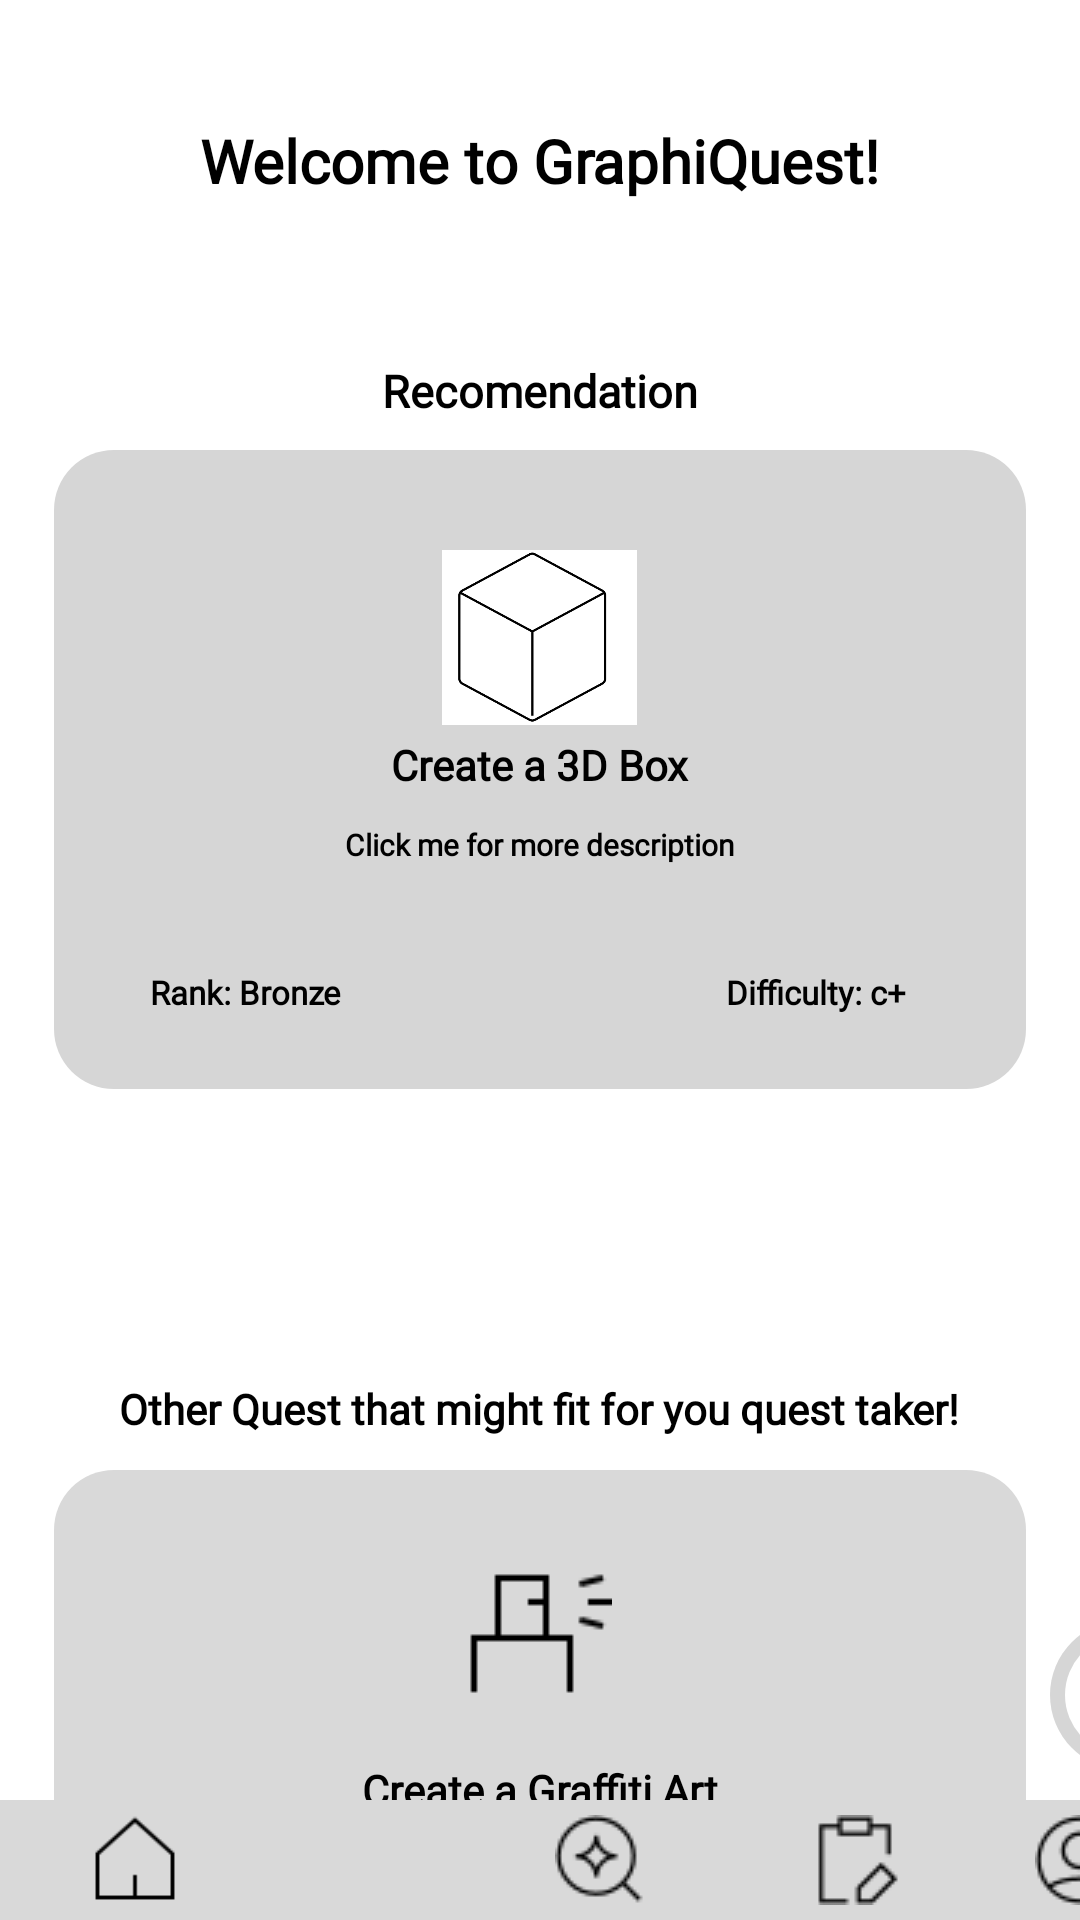

Where icons sit on this 1080 x 1920 app screen, as {"left": x1, "top": y1, "right": x2, "bottom": y2}:
homebutton: {"left": 95, "top": 1817, "right": 175, "bottom": 1900}
searchbutton: {"left": 555, "top": 1815, "right": 643, "bottom": 1903}
spraypaint: {"left": 470, "top": 1574, "right": 612, "bottom": 1693}
taskboardbutton: {"left": 818, "top": 1815, "right": 898, "bottom": 1905}
